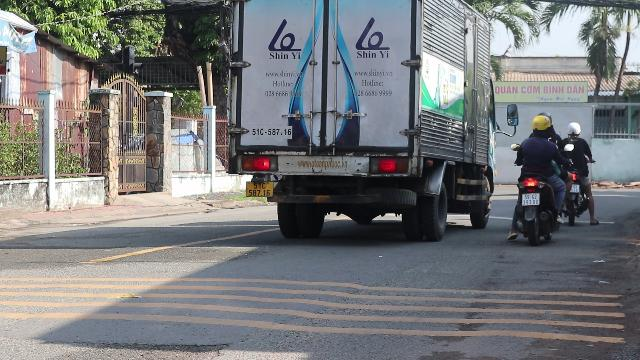helmet: (528, 114, 552, 136)
licenseplate: (522, 193, 540, 205)
motorcyclist: (508, 112, 564, 244)
